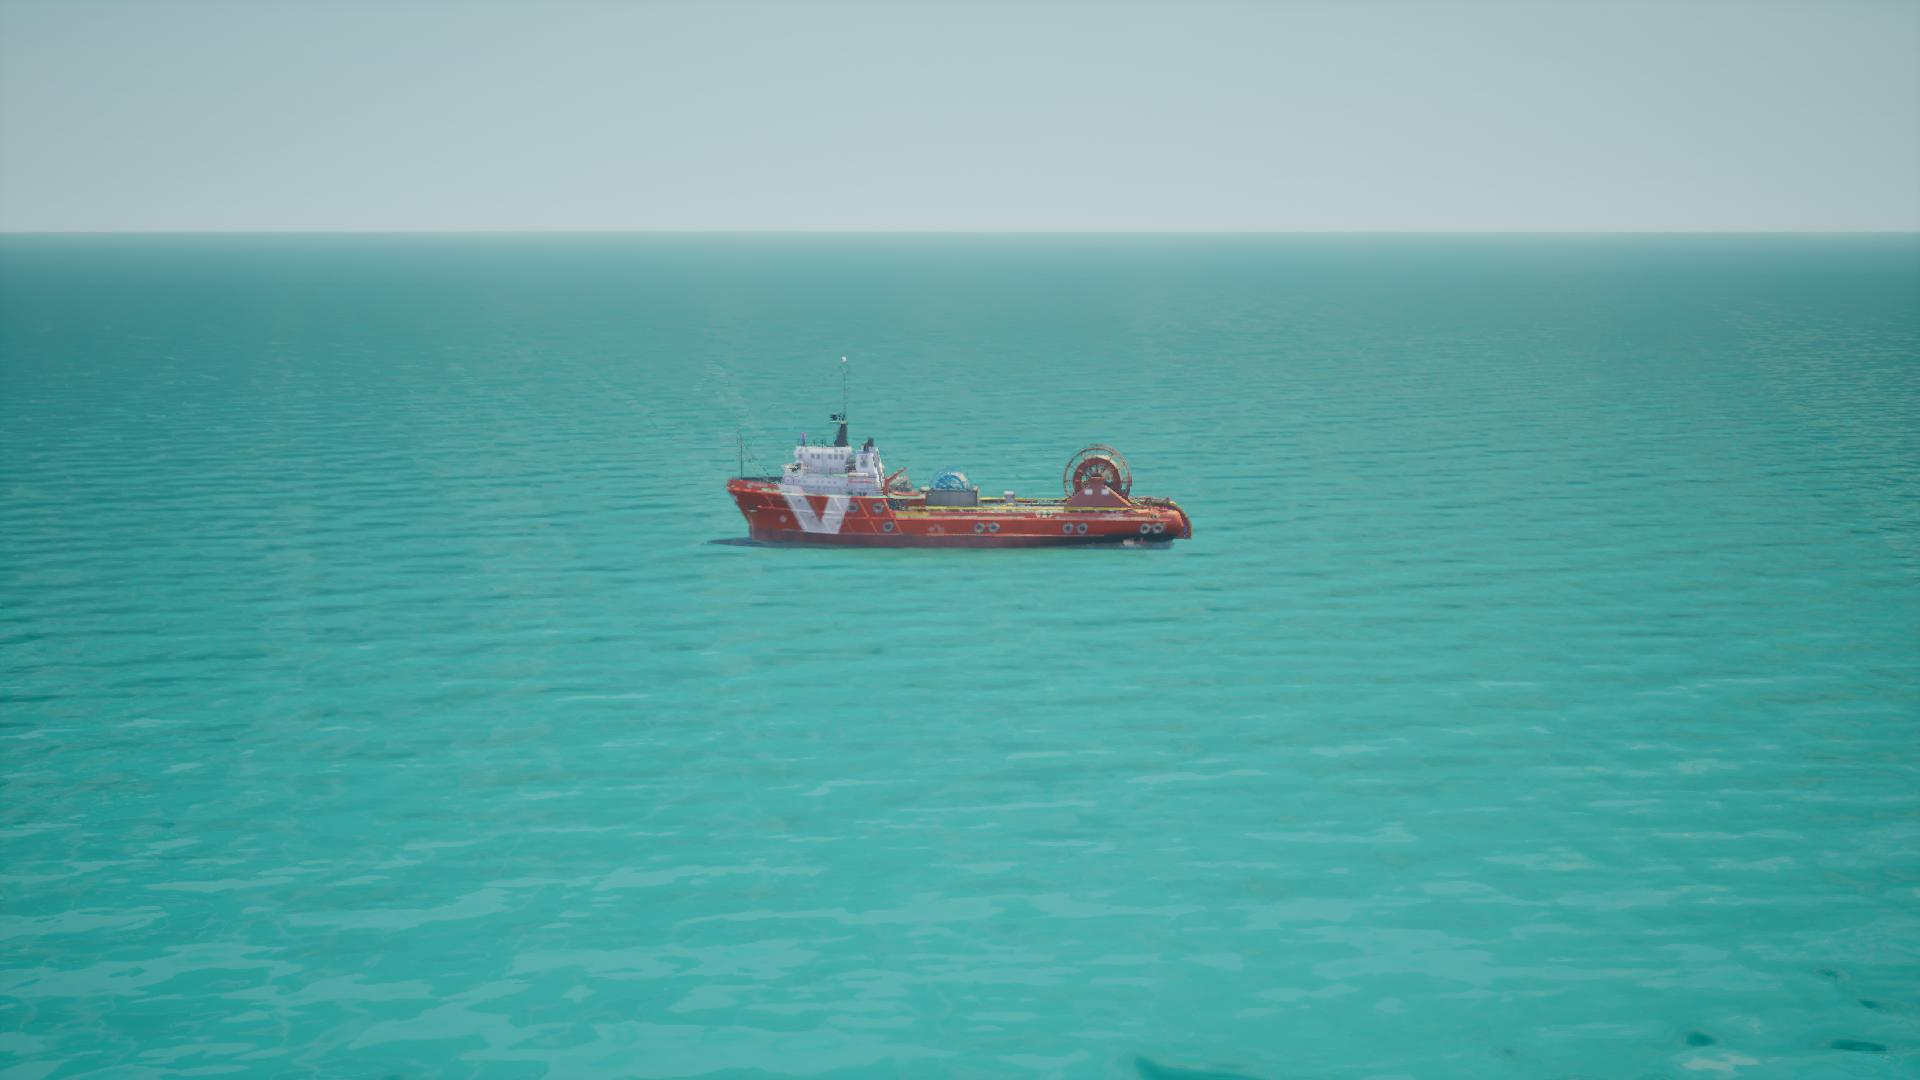Tug Boat: (719, 368, 1187, 558)
